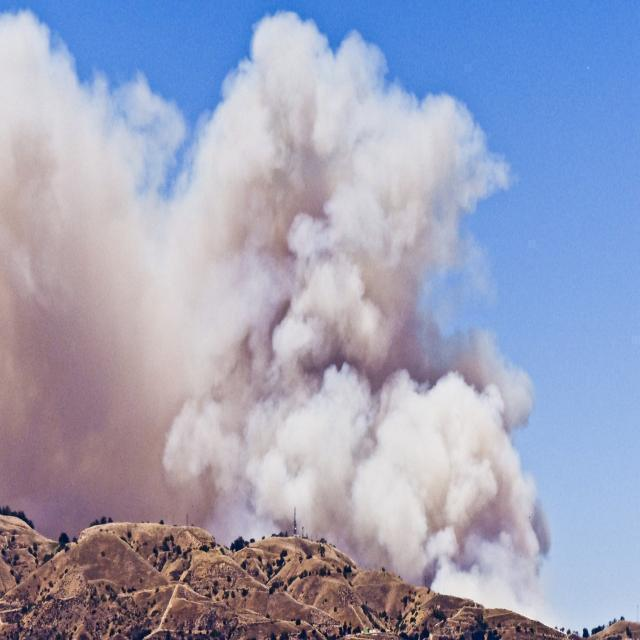Smoke: (14, 22, 498, 391), (0, 304, 534, 500)
